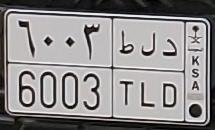0: (39, 34, 58, 110), (61, 36, 79, 110)
3: (83, 23, 101, 111)
6: (17, 19, 37, 108)
D: (161, 37, 179, 108)
L: (139, 31, 158, 108)
T: (119, 29, 135, 106)
